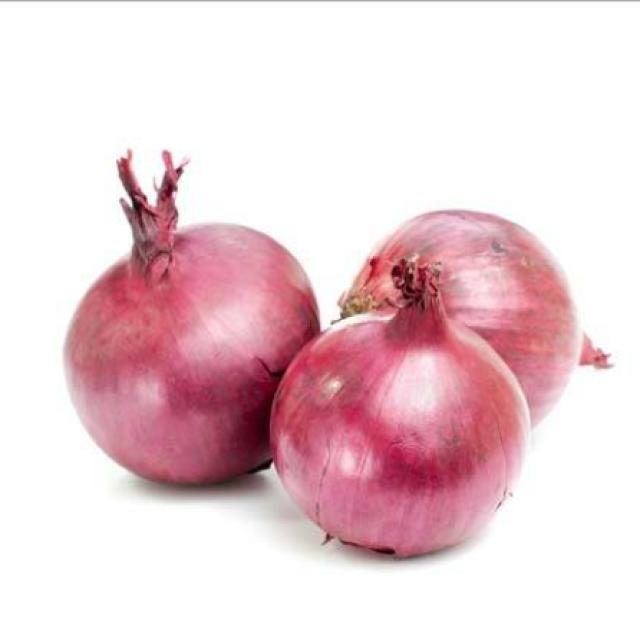healthy: (66, 152, 608, 555), (428, 224, 582, 416)
